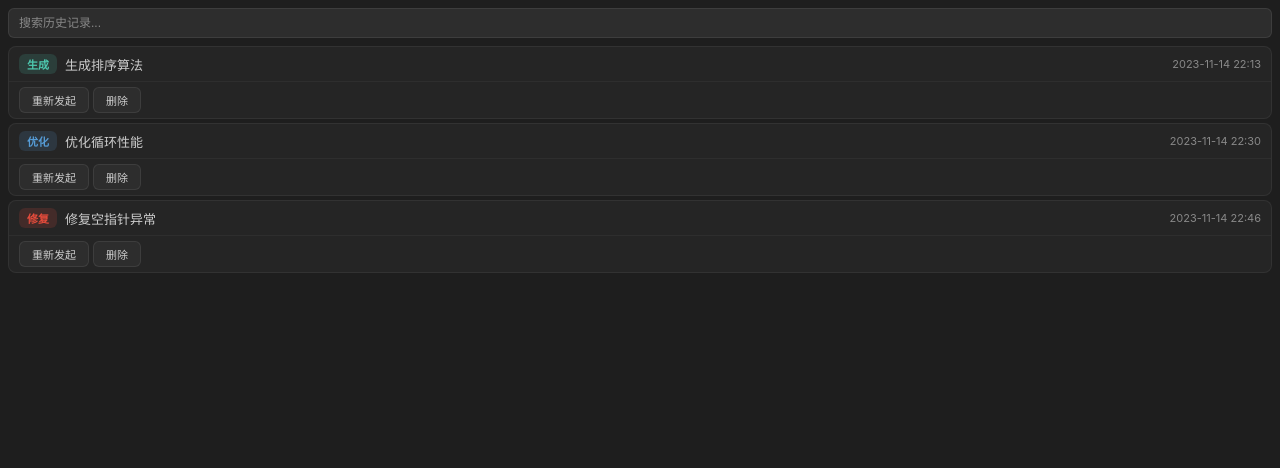
HistoryPanel › Expand/collapse details › should collapse previous detail when expanding a different record
What coordinates should you click on to do the following:
click the button with test id "history-item-summary-rec-1"
I would click on:
 (38, 64)
Its box is [19,54,1261,74].
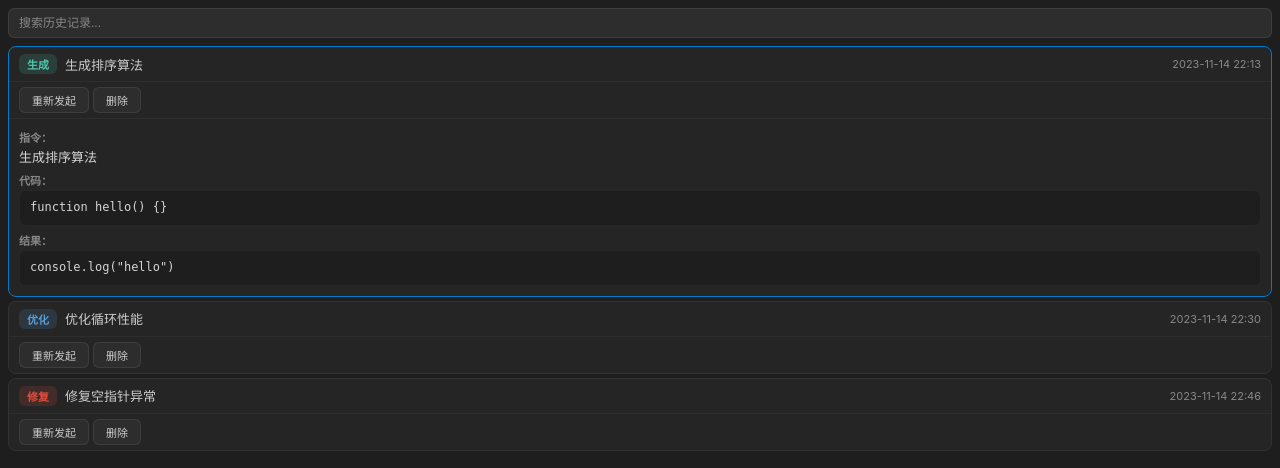
Result: the element with test id "history-item-detail-rec-1" is shown at [9,118,1271,296]
What coordinates should you click on to do the following:
click the button with test id "history-item-summary-rec-2"
I would click on:
 (38, 319)
Its box is [19,309,1261,329].
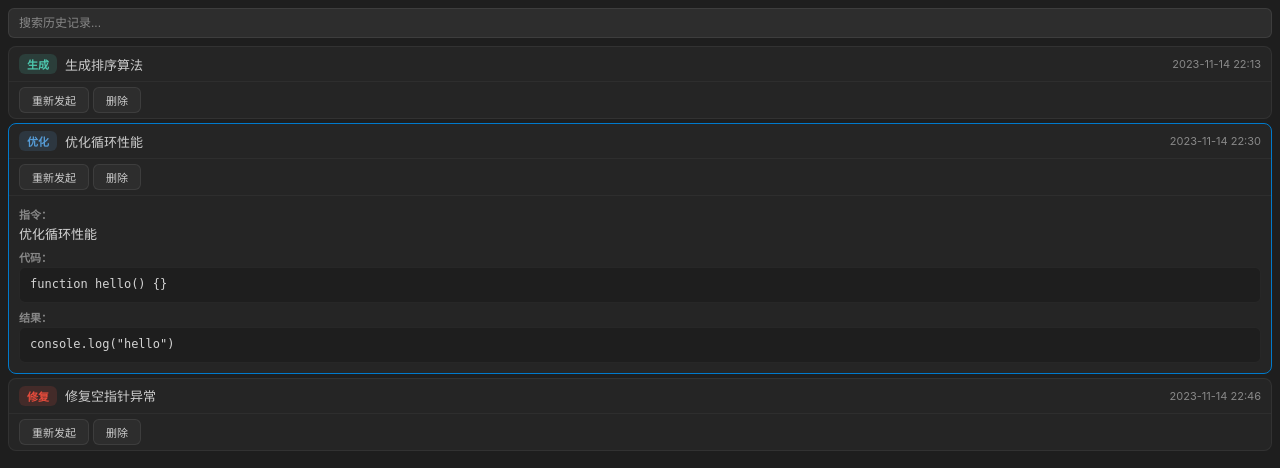
Result: the element with test id "history-item-detail-rec-1" is gone
Result: the element with test id "history-item-detail-rec-2" is shown at [9,195,1271,373]
